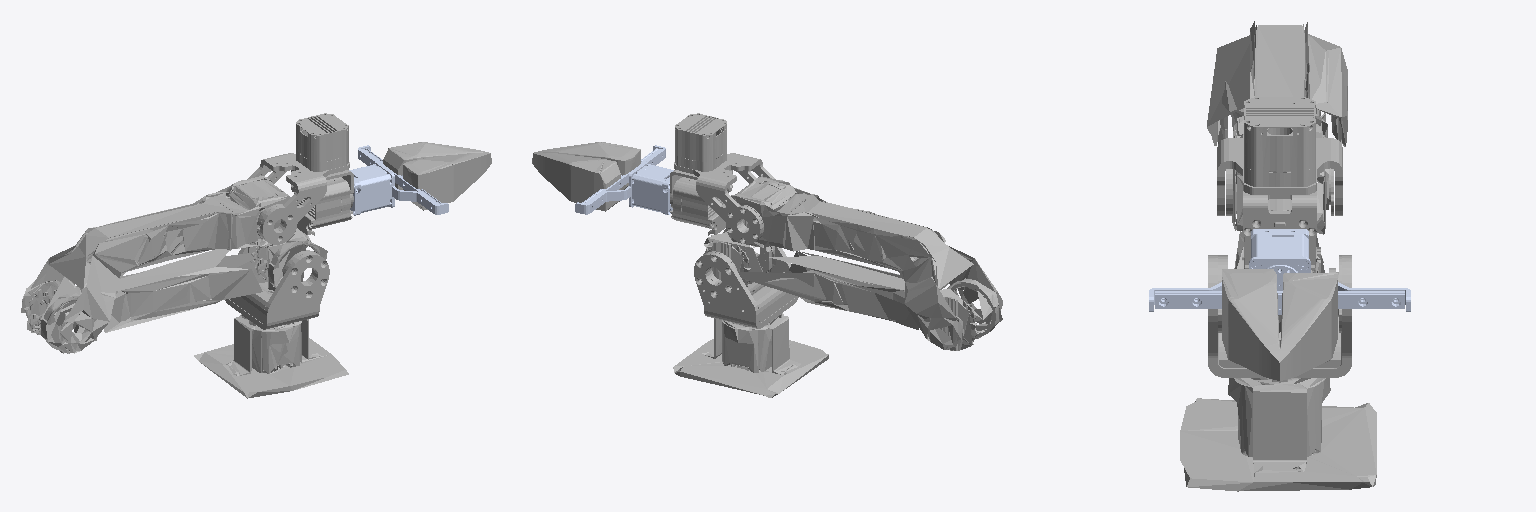
The robot description file, URDF, robot "panthera_ht_ros_description":
<?xml version='1.0' encoding='utf-8'?>
<robot name="panthera_ht_ros_description">

  <mujoco>
    <compiler meshdir="." balanceinertia="true" discardvisual="false" />
  </mujoco>

  <link name="base_link">
    <inertial>
      <origin xyz="5.789e-05 -0.00015938 0.02298649" rpy="0 0 0" />
      <mass value="0.62922454" />
      <inertia ixx="0.00061305" ixy="-1.32e-06" ixz="1.69e-06" iyy="0.00063876" iyz="-2.1e-07" izz="0.0007565" />
    </inertial>
    <visual>
      <origin xyz="0 0 0" rpy="0 0 0" />
      <geometry><mesh filename="meshes/visual/base_link.STL" /></geometry>
      <material name=""><color rgba="0.752941176470588 0.752941176470588 0.752941176470588 1" /></material>
    </visual>
    <collision>
      <origin xyz="0 0 0" rpy="0 0 0" />
      <geometry><mesh filename="meshes/collision/base_link.STL" /></geometry>
    </collision>
  </link>

  <link name="link1">
    <inertial>
      <origin xyz="0.00278873 -0.00094387 0.02491842" rpy="0 0 0" />
      <mass value="0.28101551" />
      <inertia ixx="0.00039386" ixy="3.75e-06" ixz="-3.733e-05" iyy="0.0002136" iyz="7.17e-06" izz="0.00037066" />
    </inertial>
    <visual>
      <origin xyz="0 0 0" rpy="0 0 0" />
      <geometry><mesh filename="meshes/visual/link1.STL" /></geometry>
      <material name=""><color rgba="0.752941176470588 0.752941176470588 0.752941176470588 1" /></material>
    </visual>
    <collision>
      <origin xyz="0 0 0" rpy="0 0 0" />
      <geometry><mesh filename="meshes/collision/link1.STL" /></geometry>
    </collision>
  </link>
  <joint name="joint1" type="revolute">
    <origin xyz="0 0 0.0584" rpy="0 0 0" />
    <parent link="base_link" />
    <child link="link1" />
    <axis xyz="0 0 1" />
    <limit lower="-2.4" upper="2.4" effort="21" velocity="4.2" />
  </joint>

  <link name="link2">
    <inertial>
      <origin xyz="-0.12936212 -0.00213339 7.183e-05" rpy="0 0 0" />
      <mass value="1.5165092" />
      <inertia ixx="0.00044711" ixy="3.071e-05" ixz="-5.119e-05" iyy="0.02261049" iyz="3.01e-06" izz="0.02272105" />
    </inertial>
    <visual>
      <origin xyz="0 0 0" rpy="0 0 0" />
      <geometry><mesh filename="meshes/visual/link2.STL" /></geometry>
      <material name=""><color rgba="0.752941176470588 0.752941176470588 0.752941176470588 1" /></material>
    </visual>
    <collision>
      <origin xyz="0 0 0" rpy="0 0 0" />
      <geometry><mesh filename="meshes/collision/link2.STL" /></geometry>
    </collision>
  </link>
  <joint name="joint2" type="revolute">
    <origin xyz="0.018199 0 0.053" rpy="0 0 0" />
    <parent link="link1" />
    <child link="link2" />
    <axis xyz="0 1 0" />
    <limit lower="0.0" upper="3.2" effort="36" velocity="5" />
  </joint>

  <link name="link3">
    <inertial>
      <origin xyz="0.16343103 -0.00164646 0.05337427" rpy="0 0 0" />
      <mass value="0.66917784" />
      <inertia ixx="0.00061339" ixy="-1.439e-05" ixz="-0.00070321" iyy="0.00538615" iyz="-1.404e-05" izz="0.00532976" />
    </inertial>
    <visual>
      <origin xyz="0 0 0" rpy="0 0 0" />
      <geometry><mesh filename="meshes/visual/link3.STL" /></geometry>
      <material name=""><color rgba="0.752941176470588 0.752941176470588 0.752941176470588 1" /></material>
    </visual>
    <collision>
      <origin xyz="0 0 0" rpy="0 0 0" />
      <geometry><mesh filename="meshes/collision/link3.STL" /></geometry>
    </collision>
  </link>
  <joint name="joint3" type="revolute">
    <origin xyz="-0.26 0 0" rpy="0 0 0" />
    <parent link="link2" />
    <child link="link3" />
    <axis xyz="0 -1 0" />
    <limit lower="0.0" upper="4.0" effort="36" velocity="5" />
  </joint>

  <link name="link4">
    <inertial>
      <origin xyz="0.05240131 -0.00055249 0.04094177" rpy="0 0 0" />
      <mass value="0.30780516" />
      <inertia ixx="0.00025787" ixy="-1.011e-05" ixz="-0.00017337" iyy="0.00039454" iyz="-8.09e-06" izz="0.00035094" />
    </inertial>
    <visual>
      <origin xyz="0 0 0" rpy="0 0 0" />
      <geometry><mesh filename="meshes/visual/link4.STL" /></geometry>
      <material name=""><color rgba="0.752941176470588 0.752941176470588 0.752941176470588 1" /></material>
    </visual>
    <collision>
      <origin xyz="0 0 0" rpy="0 0 0" />
      <geometry><mesh filename="meshes/collision/link4.STL" /></geometry>
    </collision>
  </link>
  <joint name="joint4" type="revolute">
    <origin xyz="0.23 0 0.06" rpy="0 0 0" />
    <parent link="link3" />
    <child link="link4" />
    <axis xyz="0 -1 0" />
    <limit lower="-1.6" upper="1.6" effort="21" velocity="4.2" />
  </joint>

  <link name="link5">
    <inertial>
      <origin xyz="0.00303007 8.509e-05 -0.03624079" rpy="0 0 0" />
      <mass value="0.23711139" />
      <inertia ixx="4.815e-05" ixy="-3e-08" ixz="-1.5e-07" iyy="5.773e-05" iyz="-1e-08" izz="3.359e-05" />
    </inertial>
    <visual>
      <origin xyz="0 0 0" rpy="0 0 0" />
      <geometry><mesh filename="meshes/visual/link5.STL" /></geometry>
      <material name=""><color rgba="0.752941176470588 0.752941176470588 0.752941176470588 1" /></material>
    </visual>
    <collision>
      <origin xyz="0 0 0" rpy="0 0 0" />
      <geometry><mesh filename="meshes/collision/link5.STL" /></geometry>
    </collision>
  </link>
  <joint name="joint5" type="revolute">
    <origin xyz="0.07 0 0.036319" rpy="0 0 0" />
    <parent link="link4" />
    <child link="link5" />
    <axis xyz="0 0 -1" />
    <limit lower="-1.7" upper="1.7" effort="10" velocity="3.7" />
  </joint>

  <link name="link6">
    <inertial>
      <origin xyz="0.002 0.00 0.00" rpy="0 0 0" />
      <mass value="0.01" />
      <inertia ixx="0.00107368" ixy="-1.25e-05" ixz="3e-07" iyy="0.00068998" iyz="2.517e-05" izz="0.00167551" />
    </inertial>
    <visual>
      <origin xyz="0 0 0" rpy="0 0 0" />
      <geometry><mesh filename="meshes/visual/link6.STL" /></geometry>
      <material name=""><color rgba="0.752941176470588 0.752941176470588 0.752941176470588 1" /></material>
    </visual>
    <collision>
      <origin xyz="0 0 0" rpy="0 0 0" />
      <geometry><mesh filename="meshes/collision/link6.STL" /></geometry>
    </collision>
  </link>
  <joint name="joint6" type="revolute">
    <origin xyz="0.02345 0 -0.039" rpy="0 0 0" />
    <parent link="link5" />
    <child link="link6" />
    <axis xyz="1 0 0" />
    <limit lower="-2.5" upper="2.5" effort="10" velocity="3.7" />
  </joint>

  <link name="L_finger">
    <inertial>
      <origin xyz="-0.0685513053302154 0.016863783322054 -0.000510235194009112" rpy="0 0 0" />
      <mass value="0.127457990512492" />
      <inertia ixx="2.28803355388279E-05" ixy="-4.20099870625027E-06" ixz="3.42841892600802E-07" iyy="5.15650351948181E-05" iyz="-5.67310171718486E-10" izz="4.64985980845228E-05" />
    </inertial>
    <visual>
      <origin xyz="0 0 0" rpy="0 0 0" />
      <geometry><mesh filename="meshes/visual/L_finger.STL" /></geometry>
      <material name=""><color rgba="0.752941176470588 0.752941176470588 0.752941176470588 1" /></material>
    </visual>
    <collision>
      <origin xyz="0 0 0" rpy="0 0 0" />
      <geometry><mesh filename="meshes/collision/L_finger.STL" /></geometry>
    </collision>
  </link>
  <joint name="L_finger_joint" type="prismatic">
    <origin xyz="0.165 0 0" rpy="0 0 0" />
    <parent link="link6" />
    <child link="L_finger" />
    <axis xyz="0 1 0" />
    <limit lower="0" upper="0.04" effort="100" velocity="0.1" />
  </joint>

  <link name="R_finger">
    <inertial>
      <origin xyz="-0.0685513053307259 -0.0168637833221451 0.000510464525338844" rpy="0 0 0" />
      <mass value="0.127457990511979" />
      <inertia ixx="2.28803355389148E-05" ixy="4.20099870615578E-06" ixz="-3.42841892362391E-07" iyy="5.15650351903219E-05" iyz="-5.67310157866966E-10" izz="4.64985980799091E-05" />
    </inertial>
    <visual>
      <origin xyz="0 0 0" rpy="0 0 0" />
      <geometry><mesh filename="meshes/visual/R_finger.STL" /></geometry>
      <material name=""><color rgba="0.752941176470588 0.752941176470588 0.752941176470588 1" /></material>
    </visual>
    <collision>
      <origin xyz="0 0 0" rpy="0 0 0" />
      <geometry><mesh filename="meshes/collision/R_finger.STL" /></geometry>
    </collision>
  </link>
  <joint name="R_finger_joint" type="prismatic">
    <origin xyz="0.165 0 0" rpy="0 0 0" />
    <parent link="link6" />
    <child link="R_finger" />
    <axis xyz="0 1 0" />
    <limit lower="-0.04" upper="0" effort="100" velocity="0.1" />
    <mimic joint="L_finger_joint" multiplier="-1" offset="0" />
  </joint>

  <link name="gripper_center">
    <inertial>
      <origin xyz="-0.124818615882779 -4.88421114370448E-05 -3.8373269199643E-05" rpy="0 0 0" />
      <mass value="0.0960375427712166" />
      <inertia ixx="9.09311609578797E-05" ixy="2.21893449480774E-09" ixz="-4.1053650775334E-09" iyy="1.13385601698219E-05" iyz="4.83664470143672E-08" izz="8.46740055322188E-05" />
    </inertial>
    <visual>
      <origin xyz="0 0 0" rpy="0 0 0" />
      <geometry><mesh filename="meshes/visual/gripper_center.STL" /></geometry>
      <material name=""><color rgba="0.866666666666667 0.909803921568627 1 1" /></material>
    </visual>
    <collision>
      <origin xyz="0 0 0" rpy="0 0 0" />
      <geometry><mesh filename="meshes/collision/gripper_center.STL" /></geometry>
    </collision>
  </link>
  <joint name="gripper_center_joint" type="fixed">
    <origin xyz="0.165 0 0" rpy="0 0 0" />
    <parent link="link6" />
    <child link="gripper_center" />
  </joint>

</robot>

--- Facts derived from the render (not from the file) ---
Views: 3 orthographic renders of the robot side by side, from view 1: azimuth 30°, elevation 25°; view 2: azimuth 150°, elevation 25°; view 3: azimuth 270°, elevation 25°.
Robot: panthera_ht_ros_description — 10 links, 9 joints (6 revolute, 2 prismatic, 1 fixed); root link base_link; default pose: all joints at 0.
Links seen in each view (by area): view 1: link3, link2, base_link, link4, link1, gripper_center, R_finger, link5, L_finger; view 2: link3, link2, base_link, link4, link1, L_finger, gripper_center, link5, R_finger; view 3: base_link, link3, link4, gripper_center, R_finger, L_finger, link1, link5, link2.
Link boxes in pixels (box(x1,y1,x2,y2)): link3: box(21, 176, 295, 353); link2: box(24, 228, 327, 353); base_link: box(194, 314, 348, 398); link4: box(238, 113, 349, 244); link1: box(225, 243, 329, 329); gripper_center: box(349, 145, 448, 215); R_finger: box(403, 153, 491, 210); link5: box(291, 170, 353, 235); L_finger: box(383, 142, 488, 189); link3: box(726, 176, 1002, 349); link2: box(703, 229, 1002, 350); base_link: box(673, 313, 828, 397); link4: box(674, 113, 782, 244); link1: box(694, 245, 798, 328); L_finger: box(533, 152, 620, 211); gripper_center: box(575, 145, 673, 214); link5: box(670, 170, 732, 235); R_finger: box(532, 142, 640, 189); base_link: box(1180, 378, 1376, 491); link3: box(1207, 21, 1347, 234); link4: box(1217, 97, 1342, 215); gripper_center: box(1149, 229, 1410, 314); R_finger: box(1222, 269, 1279, 380); L_finger: box(1280, 273, 1337, 380); link1: box(1208, 255, 1351, 382); link5: box(1243, 191, 1316, 272); link2: box(1231, 108, 1325, 332).
Size in the robot's own frame: 0.5237 by 0.158 by 0.252 metres.
10 mesh visuals loaded from 10 distinct referenced files (10 binary STL).
